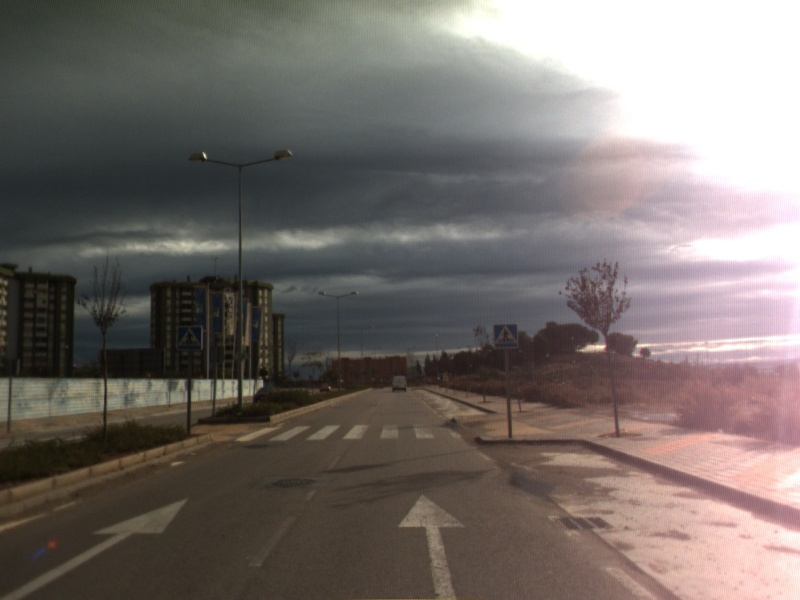STRAIGHT: (1, 495, 191, 600), (396, 491, 469, 600)
